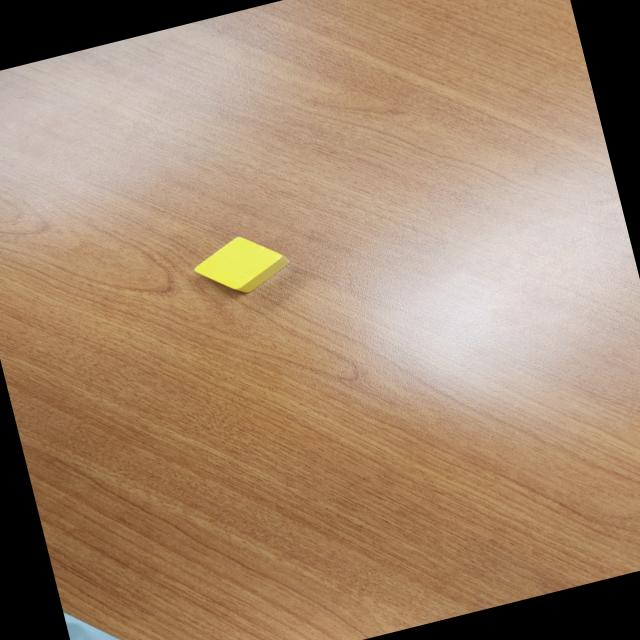yellow: (188, 225, 298, 304)
